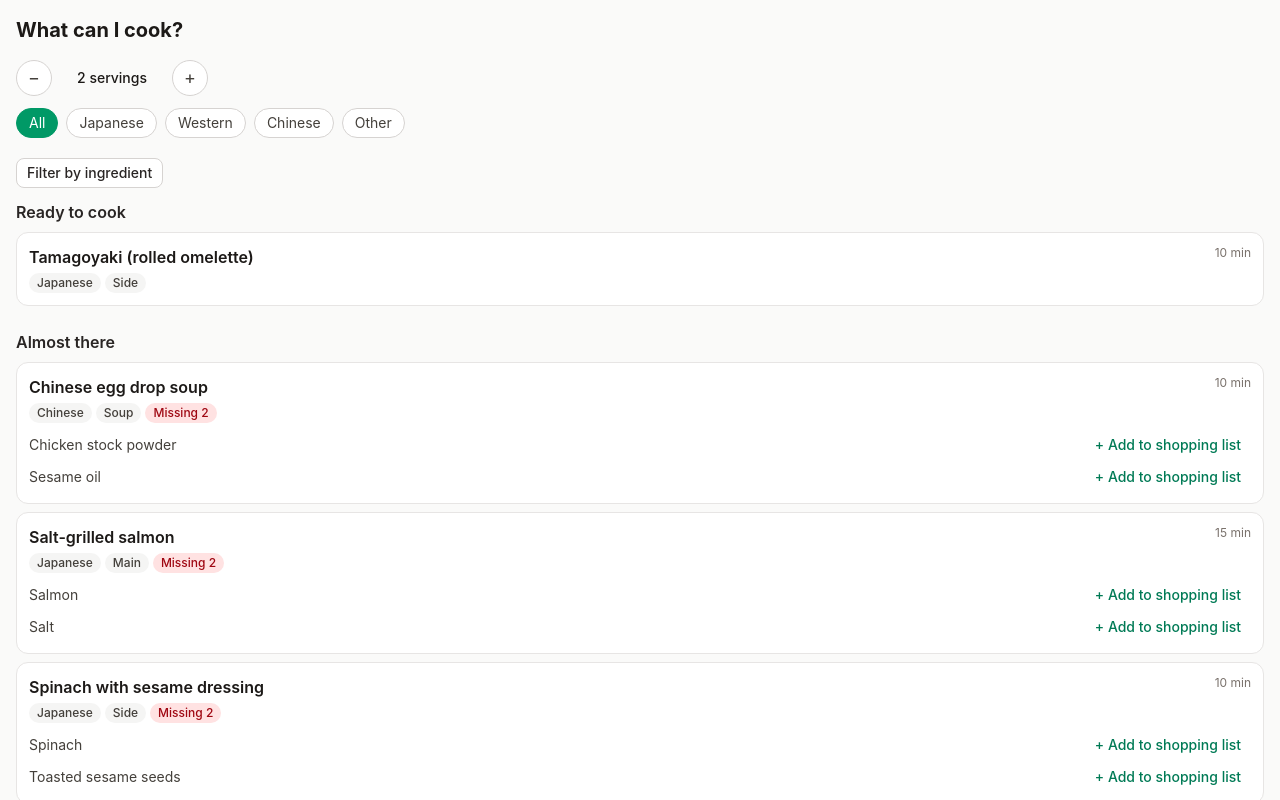
Test: SuggestionsPage › changes servings and filters by cuisine
The image size is (1280, 800).
Click the button named "More servings" at [190, 78], box top-left (172, 60), bottom-right (208, 96)
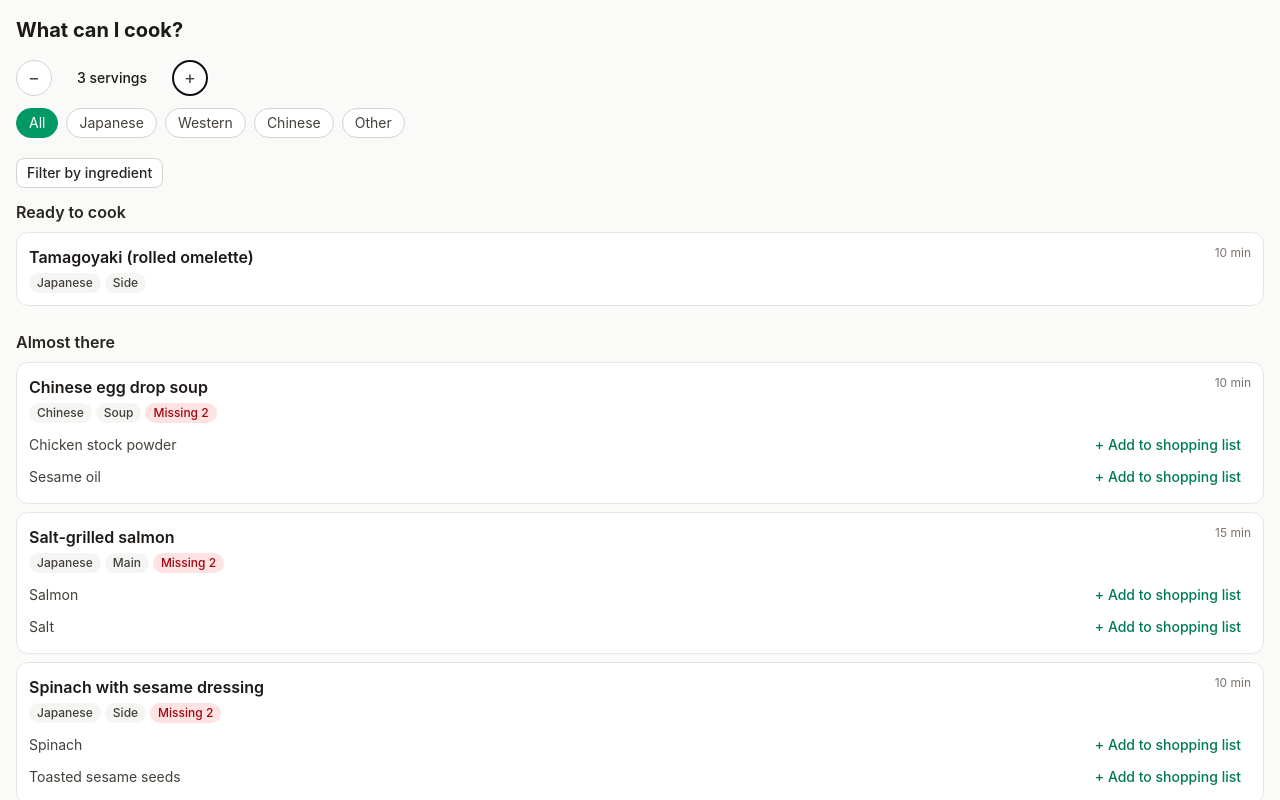
Click the button "Western" at [205, 123], box top-left (165, 108), bottom-right (246, 138)
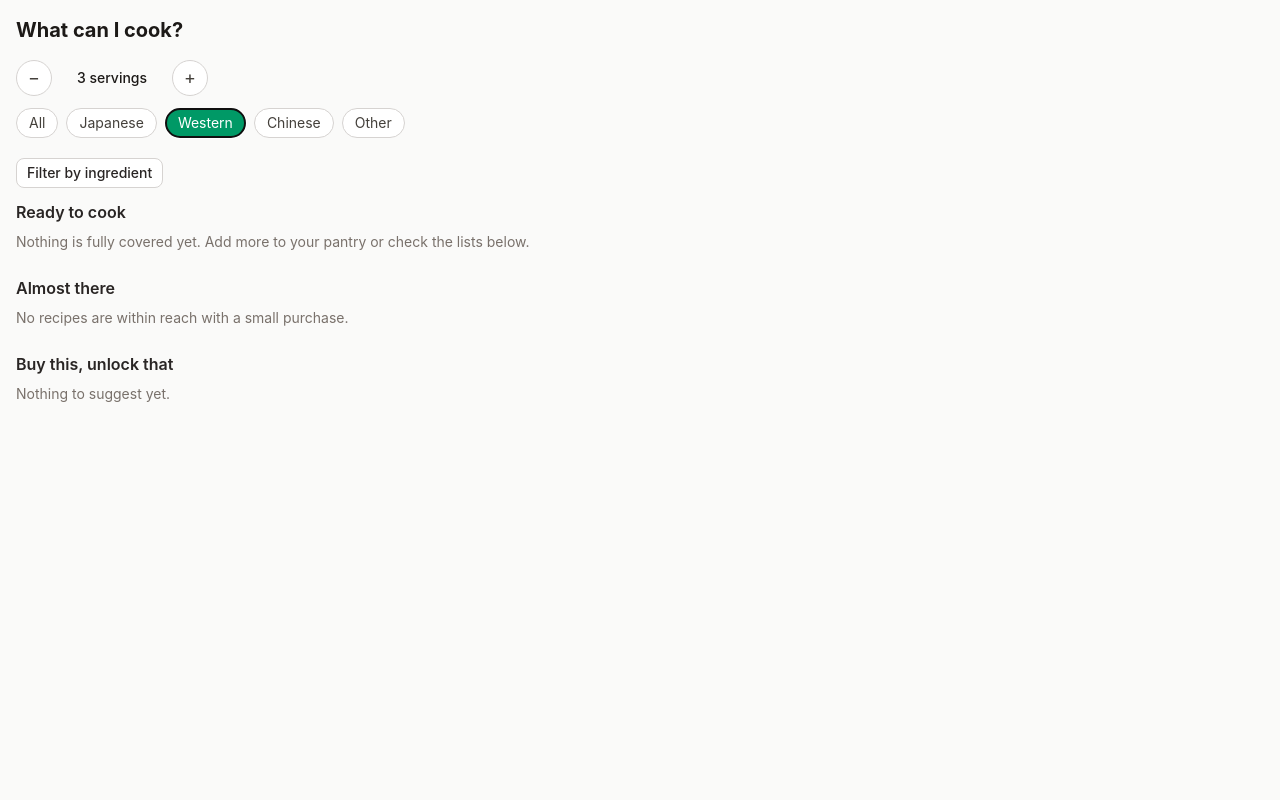
Now the link "Tamagoyaki (rolled omelette)" is gone
